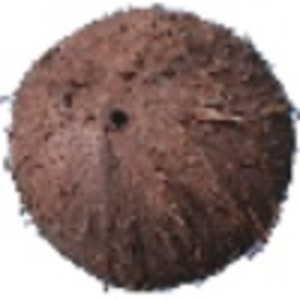coco: (1, 6, 300, 295)
